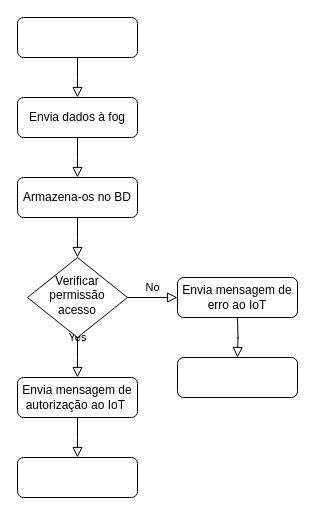
Some shapes in this 315 by 515 pixel diagram are drawn without their labels. The centre of each missing label's shape, as x and y in pixels:
"IoT indica acesso negado" goes at point 237,377.
"IoT lê cartão RFID" goes at point 77,37.
"IoT permite o acesso à residência" goes at point 77,477.
